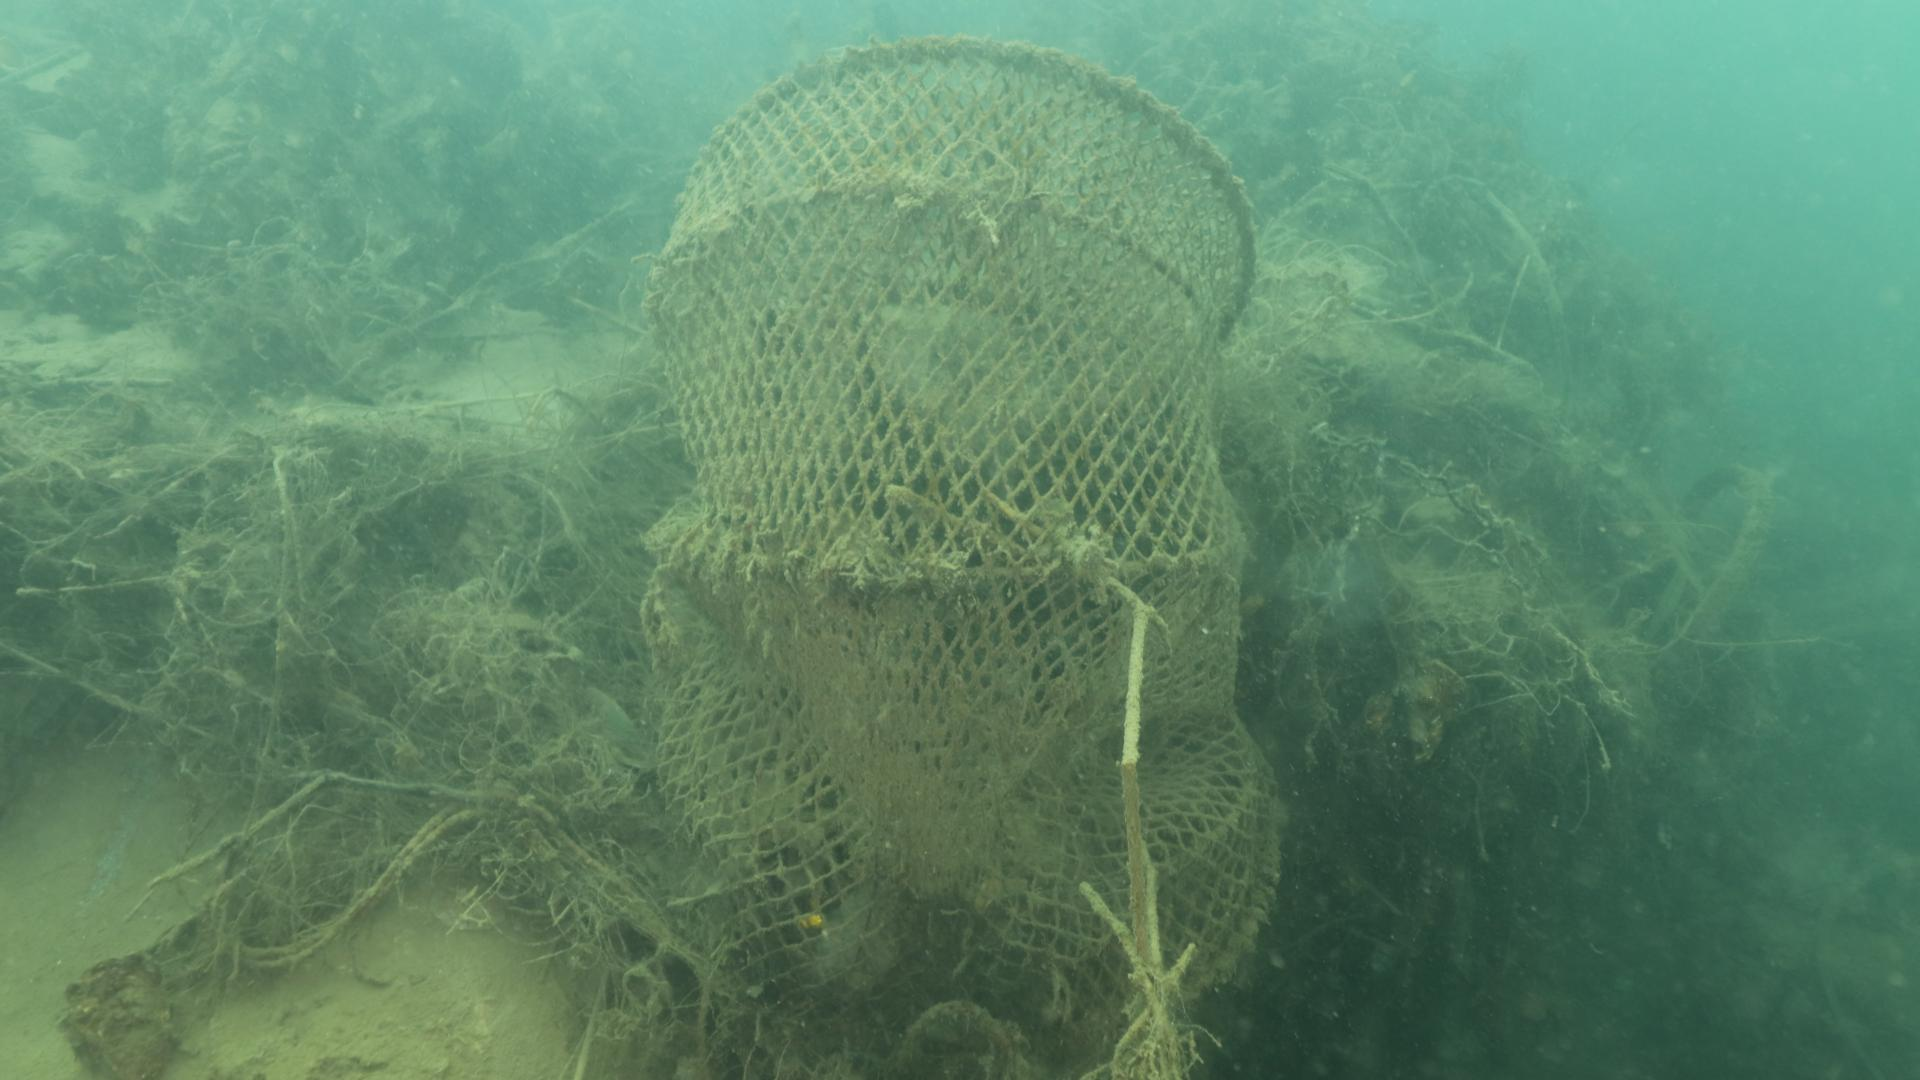spring fish trap: (636, 32, 1283, 1080)
